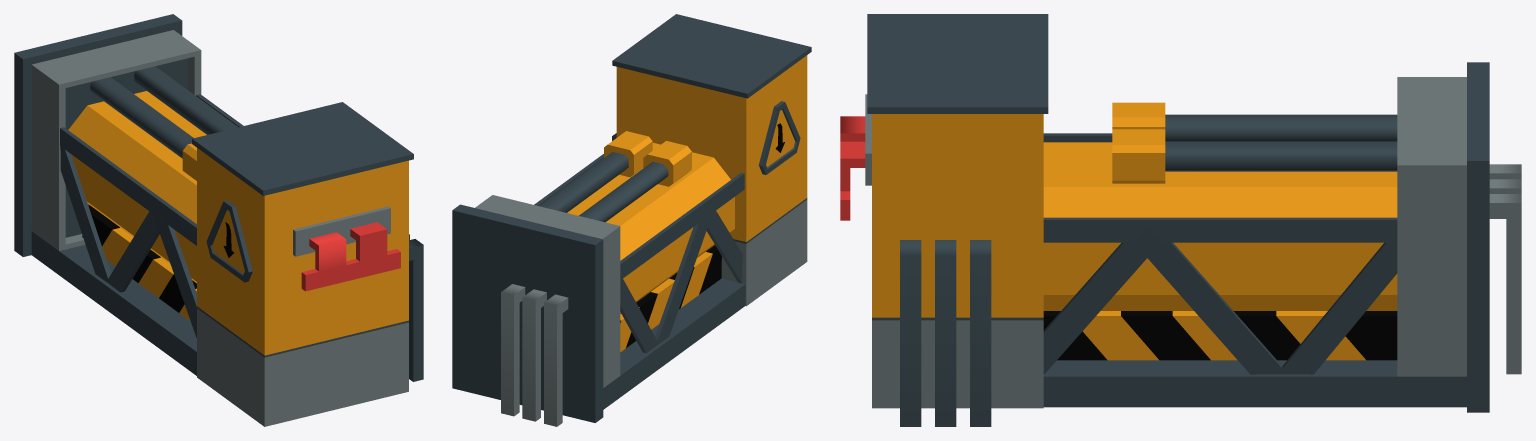
Rendered from Power_Station_01_LV2.fbx.
3 views of the same model, side by side, from view 1: azimuth 30°, elevation 25°; view 2: azimuth 150°, elevation 25°; view 3: azimuth 270°, elevation 25° (orthographic). The views are drawn at different scales.
Parts seen in each view (by area): view 1: Power_Station_01_LV2; view 2: Power_Station_01_LV2; view 3: Power_Station_01_LV2.
Part boxes in pixels (bbox=[...]): Power_Station_01_LV2: bbox=[14, 14, 423, 426]; Power_Station_01_LV2: bbox=[452, 14, 811, 426]; Power_Station_01_LV2: bbox=[840, 14, 1521, 426].
Bounding box in the file's own units: 181 × 234 × 472.
